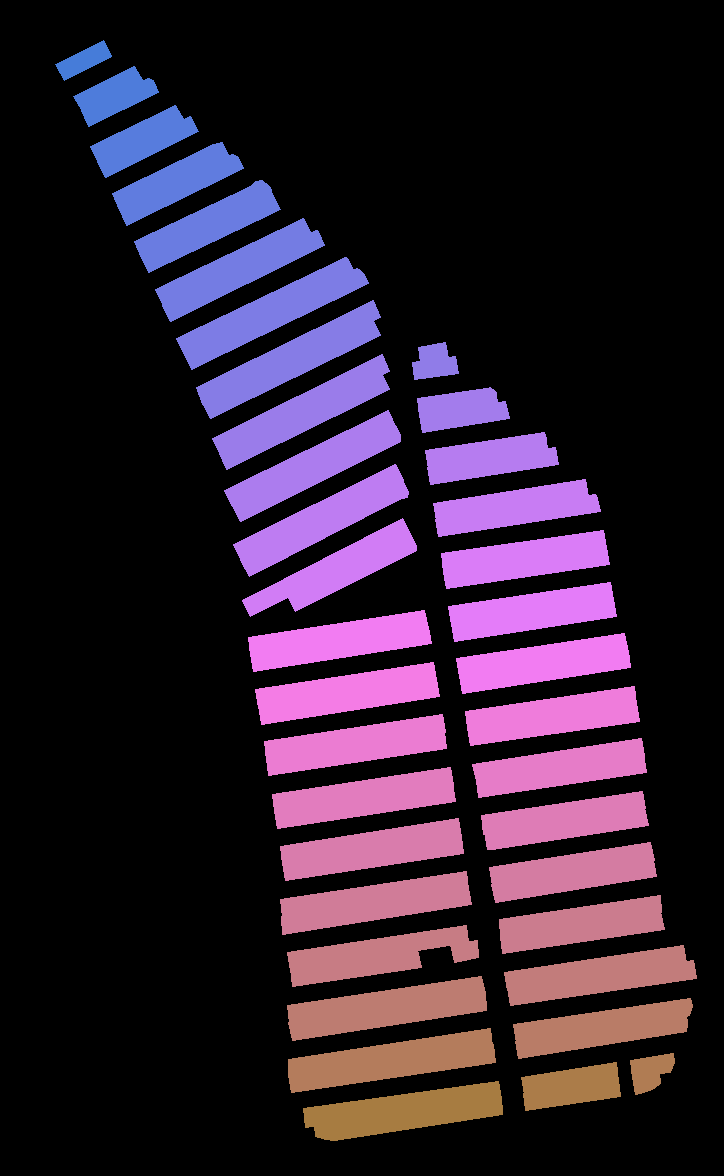parkingspot: (196, 300, 380, 404), (184, 268, 368, 369), (212, 354, 389, 454), (202, 319, 380, 418), (176, 257, 354, 354), (233, 464, 403, 561), (242, 518, 410, 616), (224, 410, 395, 506), (219, 373, 389, 469), (240, 479, 408, 576), (232, 425, 400, 521), (162, 230, 324, 321), (155, 218, 311, 306), (141, 194, 280, 272), (134, 180, 272, 258), (287, 533, 416, 611), (288, 1044, 495, 1092), (288, 1028, 492, 1076), (288, 992, 486, 1040), (287, 976, 485, 1023), (303, 1081, 501, 1127), (119, 154, 243, 225), (281, 888, 471, 934), (280, 871, 468, 917), (507, 960, 696, 1005), (280, 818, 461, 864), (264, 714, 445, 760), (314, 1096, 502, 1140), (504, 945, 686, 990), (287, 925, 468, 970), (274, 783, 455, 828), (258, 679, 439, 724), (255, 662, 436, 707), (266, 730, 446, 775), (248, 610, 428, 655), (282, 836, 463, 880), (272, 767, 453, 811), (250, 627, 431, 671), (112, 142, 229, 210), (513, 998, 692, 1042), (456, 633, 628, 677), (467, 702, 639, 745), (472, 738, 644, 781), (515, 1015, 687, 1058), (459, 650, 630, 693), (476, 754, 646, 797), (465, 686, 636, 728), (448, 582, 613, 625), (489, 842, 654, 885), (481, 791, 645, 834), (435, 494, 600, 536), (441, 530, 606, 572), (451, 599, 616, 641), (491, 860, 656, 902), (484, 807, 648, 849), (500, 911, 664, 953), (443, 547, 609, 588), (499, 895, 661, 937), (433, 479, 588, 520), (97, 116, 198, 177), (90, 105, 184, 162), (427, 447, 558, 484), (290, 949, 421, 986), (425, 432, 547, 468), (81, 78, 158, 126), (73, 66, 143, 111), (521, 1062, 618, 1094), (523, 1079, 620, 1110), (419, 401, 509, 432), (417, 387, 497, 416), (55, 40, 111, 80), (630, 1053, 674, 1078), (412, 356, 458, 379), (450, 940, 478, 962), (418, 342, 448, 362), (632, 1073, 660, 1094)
